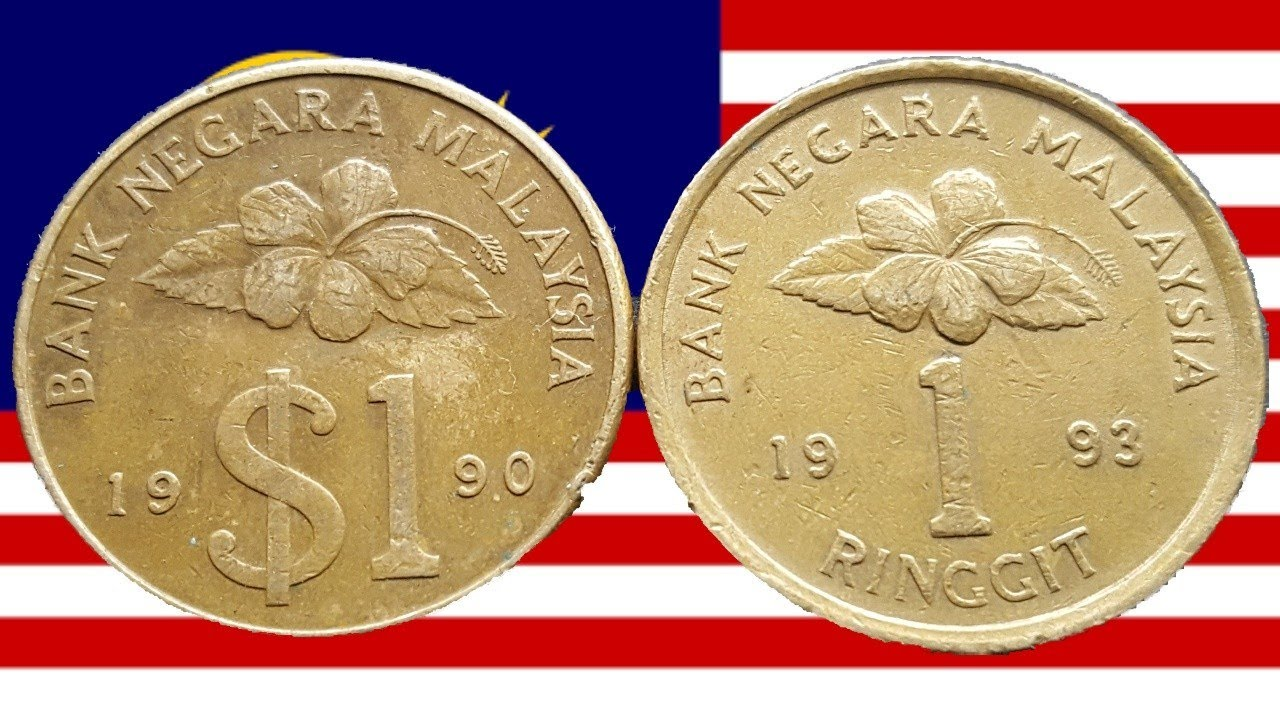1r: (635, 51, 1273, 659), (9, 53, 638, 642)
